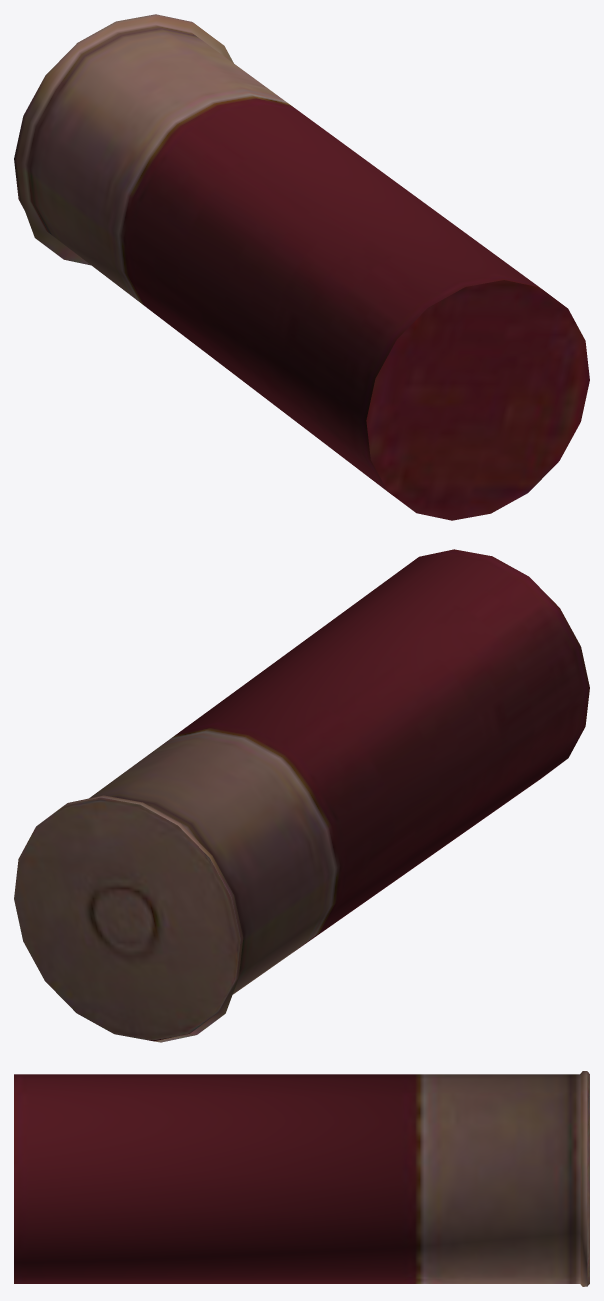
File: ShotgunShell.fbx
The picture shows the model from 3 angles, top to bottom: view 1: azimuth 30°, elevation 25°; view 2: azimuth 150°, elevation 25°; view 3: azimuth 270°, elevation 25°; orthographic projection. The views are drawn at different scales.
Parts seen in each view (by area): view 1: polySurface1; view 2: polySurface1; view 3: polySurface1.
Part boxes in pixels (box(x1,y1,x2,y2)): polySurface1: box(14, 14, 589, 520); polySurface1: box(14, 549, 589, 1042); polySurface1: box(14, 1071, 589, 1286).
Size of the model in its own units: 0.9838 by 0.9833 by 2.62.
